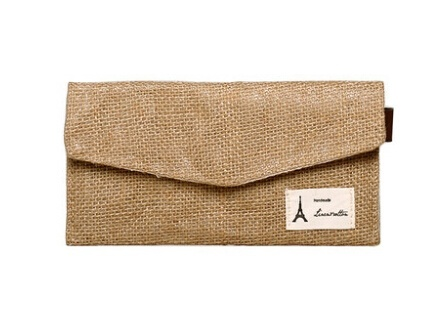flexible: (57, 75, 395, 253)
